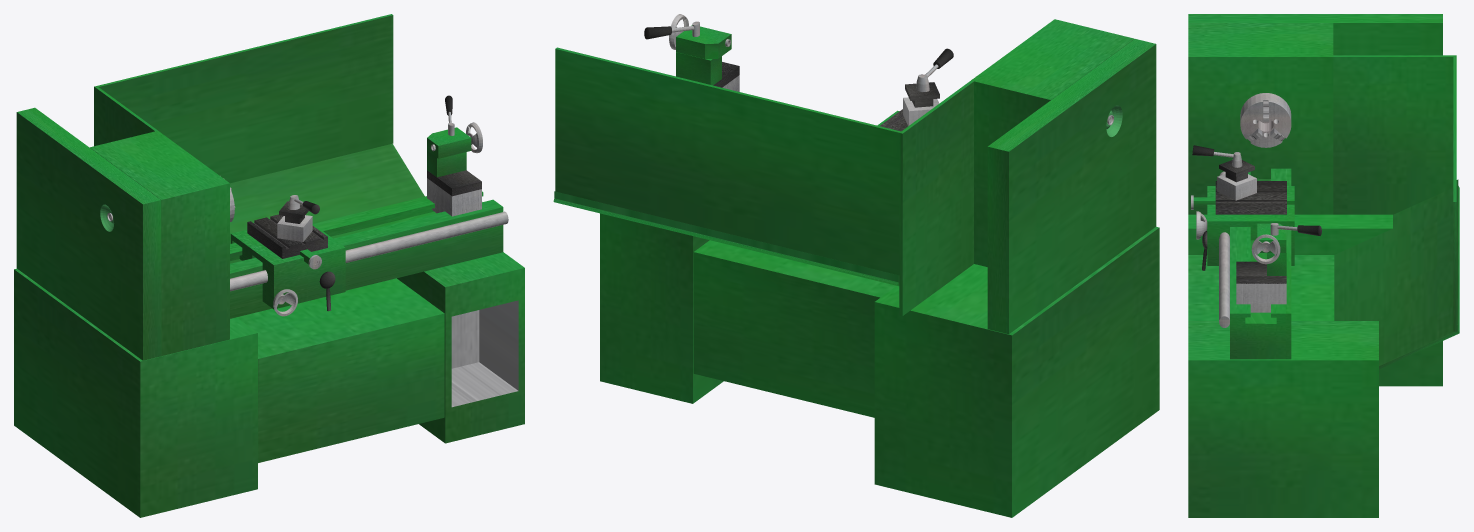
The model's file is Maquina 1.fbx.
3 renders of one model, left to right at view 1: azimuth 30°, elevation 25°; view 2: azimuth 150°, elevation 25°; view 3: azimuth 270°, elevation 25°, orthographic. The views are drawn at different scales.
Parts seen in each view (by area): view 1: Cube, Cube.005, Cubo, Cube.002, Cube.003, Cube.001, Cubo.001, Cube.006, Cubo.002, Cilindro.002, Cube.004, Cubo.004 (+5 smaller); view 2: Cube, Cube.005, Cube.002, Cubo, Cube.001, Cube.004, Cube.003, Cube.006, Cubo.012, Cubo.011, Cubo.008; view 3: Cube.001, Cube.003, Cube.004, Cube.006, Cube.002, Cube, Cubo.001, Cubo, Cubo.013, Cubo.002, Cubo.004, Cubo.009 (+8 smaller).
Part boxes in pixels (x1,y1,x2,y2): Cube: [14, 268, 257, 517]; Cube.005: [97, 14, 393, 183]; Cubo: [237, 278, 444, 462]; Cube.002: [16, 107, 161, 360]; Cube.003: [90, 130, 229, 356]; Cube.001: [397, 252, 524, 443]; Cubo.001: [230, 191, 503, 318]; Cube.006: [230, 143, 424, 243]; Cubo.002: [230, 224, 345, 309]; Cilindro.002: [230, 211, 508, 291]; Cube.004: [94, 86, 157, 146]; Cubo.004: [247, 214, 327, 258]; Cube: [874, 226, 1159, 517]; Cube.005: [555, 47, 900, 275]; Cube.002: [987, 39, 1156, 334]; Cubo: [693, 240, 896, 417]; Cube.001: [600, 213, 723, 403]; Cube.004: [899, 80, 973, 315]; Cube.003: [971, 19, 1134, 266]; Cube.006: [553, 191, 899, 286]; Cubo.012: [676, 25, 731, 58]; Cubo.011: [676, 52, 721, 85]; Cubo.008: [903, 82, 939, 126]; Cube.001: [1188, 321, 1378, 517]; Cube.003: [1188, 23, 1333, 214]; Cube.004: [1333, 55, 1456, 214]; Cube.006: [1334, 179, 1459, 369]; Cube.002: [1188, 14, 1442, 55]; Cube: [1188, 214, 1442, 386]; Cubo.001: [1230, 168, 1291, 359]; Cubo: [1188, 255, 1334, 320]; Cubo.013: [1240, 93, 1291, 147]; Cubo.002: [1207, 186, 1294, 265]; Cubo.004: [1215, 181, 1286, 214]; Cubo.009: [1236, 283, 1286, 312].
Bounding box in the file's own units: 618 × 480 × 374.
